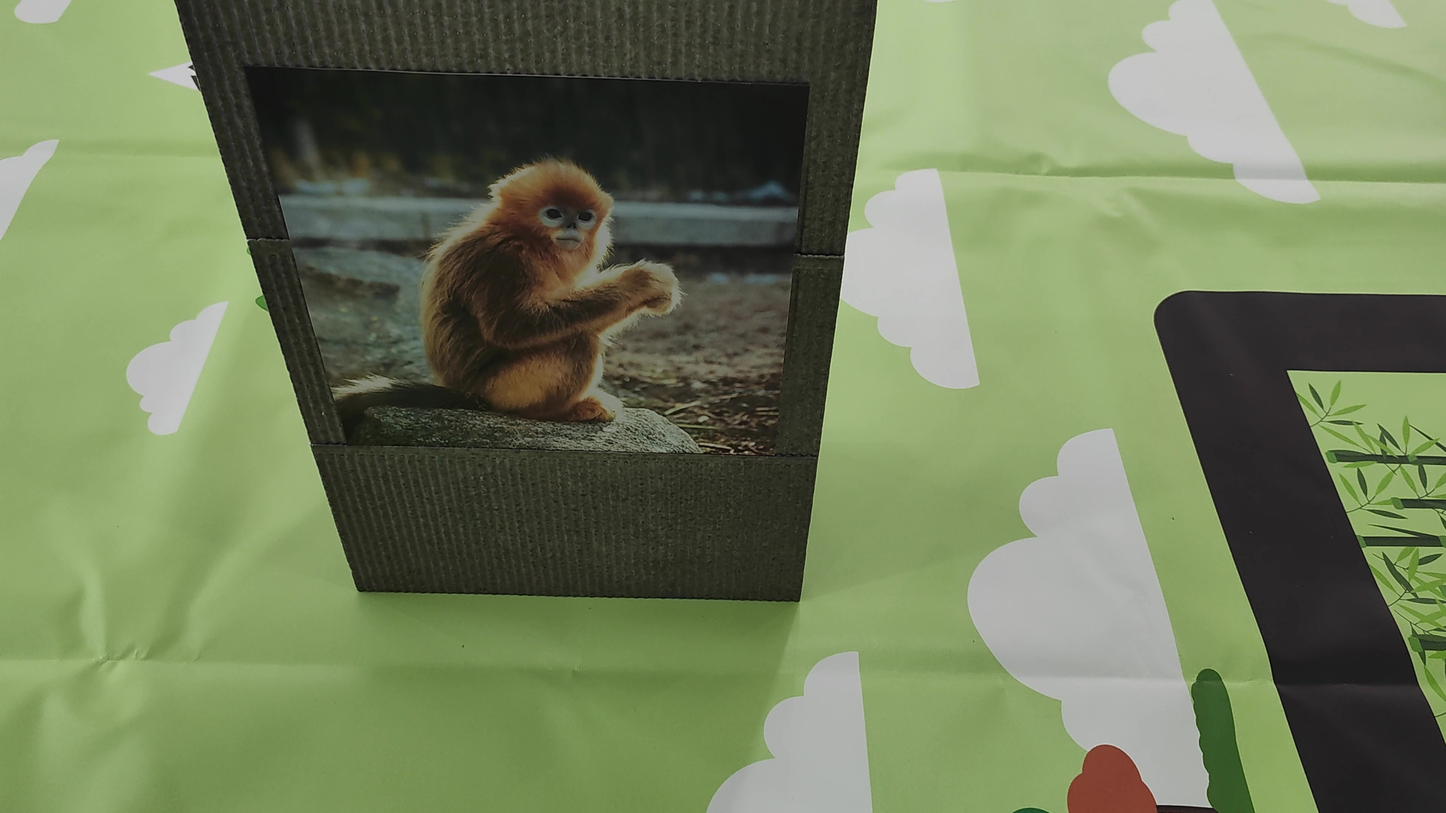monkey: (368, 112, 744, 459)
